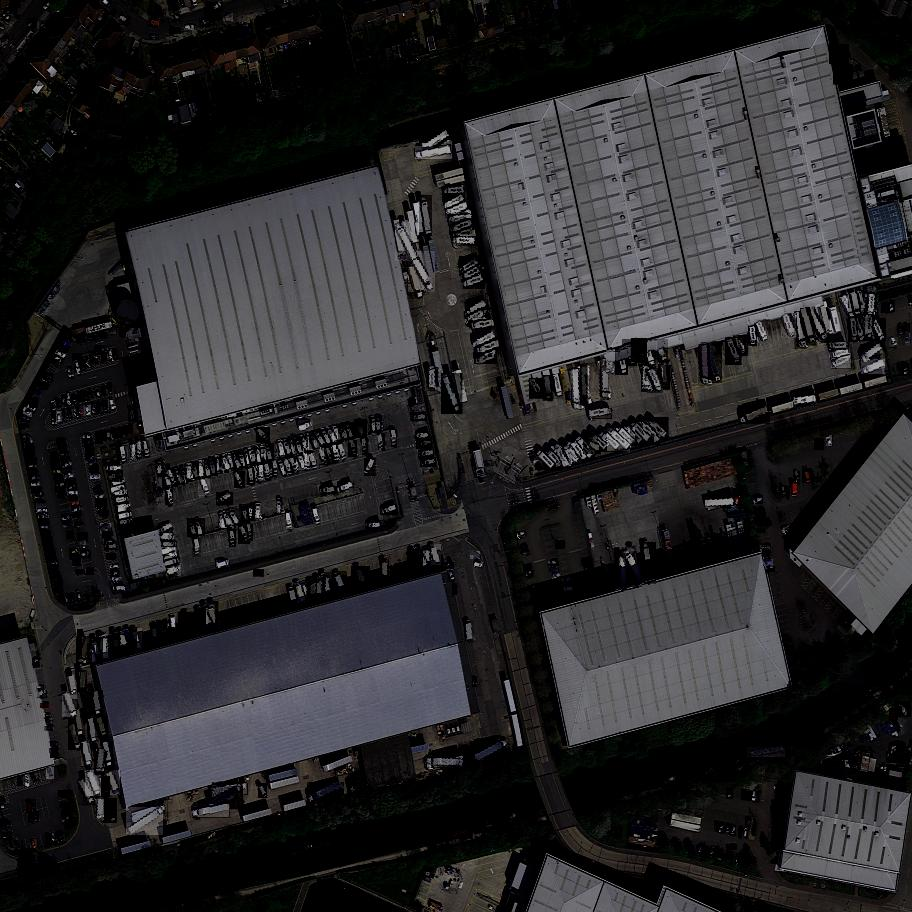large-vehicle: (408, 251, 436, 292), (126, 808, 164, 837), (622, 548, 649, 587), (395, 221, 420, 261), (806, 307, 833, 344), (441, 373, 464, 415), (701, 343, 723, 384), (474, 739, 510, 763), (208, 787, 244, 811), (308, 783, 344, 806), (422, 131, 452, 156), (801, 308, 819, 346), (641, 542, 657, 584), (131, 804, 168, 822), (738, 405, 771, 424), (407, 264, 424, 300), (606, 428, 631, 452), (645, 417, 671, 440), (639, 418, 661, 445), (627, 422, 654, 444), (418, 195, 432, 236), (574, 435, 596, 461), (415, 146, 453, 161), (565, 442, 591, 463), (192, 805, 230, 819), (861, 344, 885, 366), (534, 448, 556, 471), (597, 431, 620, 453), (622, 425, 645, 447), (472, 331, 497, 351), (78, 779, 97, 805), (178, 612, 197, 638), (413, 547, 432, 573), (351, 566, 370, 592), (553, 442, 571, 469), (726, 338, 744, 365), (558, 444, 581, 465), (460, 256, 483, 277), (76, 637, 93, 665), (839, 294, 858, 319), (198, 604, 217, 629), (212, 783, 248, 796), (61, 692, 78, 719), (867, 319, 886, 343), (795, 312, 807, 350), (650, 339, 669, 363), (698, 345, 709, 386), (446, 202, 471, 220), (781, 313, 798, 339), (449, 218, 475, 235), (85, 770, 102, 796), (407, 549, 424, 575), (444, 193, 467, 212), (546, 447, 564, 471), (754, 320, 772, 344), (475, 341, 502, 357), (105, 771, 123, 795), (631, 339, 649, 363), (586, 434, 611, 451), (612, 429, 637, 446), (648, 368, 665, 393), (581, 434, 602, 454), (622, 339, 638, 365), (642, 342, 658, 368), (90, 638, 106, 664), (467, 300, 490, 318), (465, 309, 488, 327), (331, 571, 348, 595), (69, 724, 84, 751), (861, 359, 886, 375), (705, 497, 741, 508), (462, 265, 484, 283), (848, 291, 863, 317), (425, 758, 464, 768), (474, 351, 498, 367), (347, 776, 368, 794), (615, 348, 629, 375), (319, 573, 334, 598), (463, 274, 486, 290), (104, 798, 118, 824), (101, 741, 114, 769), (854, 317, 869, 341), (600, 359, 609, 399), (116, 629, 131, 653), (529, 378, 546, 399), (733, 336, 750, 357), (90, 690, 103, 717), (856, 291, 870, 316), (470, 318, 496, 331), (81, 741, 94, 767), (572, 369, 580, 411), (95, 717, 110, 739), (427, 545, 442, 567), (124, 628, 138, 651), (293, 581, 307, 604), (832, 354, 852, 370), (287, 585, 300, 609), (74, 708, 85, 736), (543, 376, 555, 401), (618, 552, 626, 589), (551, 375, 563, 399), (98, 777, 111, 799), (230, 451, 245, 470), (132, 628, 144, 651), (94, 750, 105, 775), (580, 365, 587, 404), (895, 702, 912, 718), (297, 435, 312, 453), (314, 429, 329, 447), (641, 365, 651, 392), (216, 492, 234, 507), (227, 509, 242, 527), (355, 419, 369, 438), (165, 468, 179, 487), (451, 231, 477, 241), (589, 409, 612, 420), (337, 480, 355, 494), (332, 425, 346, 443), (326, 426, 340, 444), (830, 349, 851, 361), (172, 467, 186, 485), (67, 674, 79, 695), (793, 396, 818, 406), (448, 214, 473, 224), (88, 719, 98, 744), (240, 505, 253, 524), (309, 431, 322, 450), (156, 621, 169, 640), (187, 519, 200, 538), (238, 525, 251, 544), (849, 318, 859, 342), (660, 366, 670, 390), (277, 459, 290, 477), (364, 458, 377, 476), (324, 447, 337, 465), (280, 439, 293, 457), (219, 455, 232, 473), (321, 429, 334, 447), (210, 601, 219, 627), (316, 577, 325, 603), (867, 294, 877, 317), (77, 670, 87, 693), (199, 479, 211, 498), (103, 635, 115, 654), (607, 350, 616, 375), (99, 634, 108, 659), (251, 466, 264, 483), (319, 448, 332, 465), (234, 471, 247, 488), (416, 437, 433, 450), (344, 423, 357, 440), (111, 483, 128, 496), (118, 524, 135, 537), (208, 457, 219, 477), (380, 504, 398, 516), (163, 551, 181, 563), (256, 428, 270, 443), (337, 443, 348, 462), (243, 448, 254, 467), (237, 450, 248, 469), (293, 436, 304, 455), (194, 518, 205, 537), (158, 524, 174, 537), (197, 609, 206, 632), (116, 503, 133, 515), (749, 327, 759, 347), (308, 452, 319, 470), (339, 423, 350, 441), (190, 462, 201, 480), (95, 798, 104, 820), (223, 510, 234, 528), (109, 470, 125, 482), (167, 564, 183, 576), (266, 443, 276, 462), (202, 459, 212, 478), (312, 507, 322, 526), (465, 621, 474, 642), (284, 459, 295, 476), (296, 454, 307, 471), (420, 457, 437, 468), (427, 367, 435, 390), (226, 453, 236, 471), (141, 440, 151, 458), (118, 446, 128, 464), (162, 471, 172, 489), (192, 538, 201, 558), (86, 646, 96, 664), (298, 420, 314, 431), (443, 187, 465, 195), (110, 477, 126, 488), (162, 546, 178, 557), (117, 510, 133, 521), (290, 457, 300, 474), (112, 630, 119, 654), (84, 692, 91, 716), (247, 468, 256, 486), (262, 444, 271, 462), (250, 447, 259, 465), (453, 239, 476, 246), (349, 441, 359, 457), (276, 441, 285, 458), (828, 342, 847, 350), (180, 465, 188, 484), (165, 558, 180, 568), (865, 317, 872, 338), (310, 580, 317, 601), (378, 434, 387, 450), (256, 446, 264, 464), (370, 416, 378, 434), (165, 490, 174, 506), (382, 560, 388, 583), (186, 464, 194, 481), (271, 462, 279, 478), (320, 487, 336, 495), (419, 450, 435, 458), (118, 519, 134, 527), (219, 512, 226, 530), (160, 534, 175, 542), (333, 445, 340, 462), (255, 503, 262, 520), (288, 437, 295, 454), (198, 460, 205, 477), (229, 530, 236, 547), (151, 623, 157, 642), (304, 453, 311, 469), (391, 430, 398, 446), (131, 445, 138, 461), (246, 525, 253, 541), (216, 560, 230, 568), (277, 497, 283, 515), (302, 582, 308, 600), (411, 414, 426, 421), (116, 496, 129, 504), (286, 513, 292, 529), (307, 434, 313, 449), (157, 460, 163, 475), (107, 466, 122, 472), (170, 614, 176, 629), (162, 541, 177, 547), (366, 523, 381, 529), (266, 463, 271, 480), (249, 504, 254, 521), (376, 415, 381, 432), (215, 456, 220, 473), (137, 442, 142, 459), (425, 546, 430, 563), (114, 492, 128, 498), (260, 466, 265, 481), (363, 438, 367, 455), (415, 434, 429, 438)
ship: (697, 753, 737, 783), (789, 722, 824, 747), (579, 789, 616, 809), (863, 676, 901, 695), (747, 747, 785, 758), (450, 825, 474, 840), (474, 820, 495, 834), (659, 775, 681, 788), (290, 846, 323, 851), (506, 814, 523, 821)
small-vehicle: (802, 468, 812, 483), (258, 783, 268, 798), (68, 127, 80, 138), (102, 400, 112, 413), (82, 438, 95, 448), (707, 847, 717, 860), (447, 570, 457, 583), (199, 19, 213, 28), (23, 407, 34, 418), (86, 451, 97, 462), (27, 18, 38, 29), (70, 136, 81, 147), (889, 337, 899, 349), (881, 302, 891, 314), (814, 438, 824, 450), (55, 350, 67, 360), (135, 372, 147, 382), (36, 501, 48, 511), (119, 16, 131, 26), (889, 708, 899, 720), (100, 524, 112, 534), (29, 397, 39, 408), (1, 11, 12, 21), (79, 140, 90, 150), (37, 690, 48, 700), (555, 541, 566, 551), (74, 521, 85, 531), (77, 532, 88, 542), (99, 510, 110, 520), (9, 0, 18, 12), (886, 300, 895, 312), (94, 346, 106, 355), (26, 404, 38, 413), (111, 428, 120, 440), (0, 820, 12, 829), (696, 845, 705, 857), (470, 551, 482, 560), (130, 48, 139, 60), (253, 570, 265, 579), (97, 402, 105, 415), (109, 398, 117, 411), (112, 348, 120, 361), (702, 846, 710, 859), (0, 35, 10, 45), (214, 2, 224, 12), (111, 570, 121, 580), (54, 475, 65, 484), (53, 355, 64, 364), (41, 376, 50, 387), (71, 394, 80, 405), (62, 461, 73, 470), (23, 440, 34, 449), (752, 495, 763, 504), (31, 774, 40, 785), (30, 839, 39, 850), (14, 841, 23, 852), (43, 718, 54, 727), (96, 499, 107, 508), (39, 519, 50, 528), (751, 496, 763, 504), (107, 349, 115, 361), (95, 432, 103, 444), (84, 405, 92, 417), (77, 391, 85, 403), (46, 833, 54, 845), (47, 768, 55, 780), (119, 46, 127, 58), (581, 559, 593, 567), (129, 410, 136, 423), (60, 829, 67, 842), (848, 455, 857, 465), (38, 382, 48, 391), (67, 483, 77, 492), (2, 832, 12, 841), (894, 707, 903, 717), (15, 59, 24, 69), (11, 63, 21, 72), (223, 13, 233, 22), (44, 541, 54, 550), (79, 539, 89, 548), (54, 580, 64, 589), (47, 552, 57, 561), (898, 324, 906, 335), (89, 466, 100, 474), (97, 332, 108, 340), (72, 354, 83, 362), (51, 463, 62, 471), (745, 816, 753, 827), (718, 823, 726, 834), (730, 825, 738, 836), (61, 810, 72, 818), (62, 816, 73, 824), (443, 563, 454, 571), (772, 799, 783, 807), (148, 20, 159, 28), (81, 550, 92, 558), (48, 559, 59, 567), (51, 575, 62, 583), (827, 435, 834, 447), (791, 483, 797, 497), (83, 391, 90, 403), (727, 787, 734, 799), (164, 619, 171, 631), (62, 341, 71, 350), (99, 505, 108, 514), (44, 373, 54, 381), (99, 431, 107, 441), (119, 327, 127, 337), (59, 345, 69, 353), (57, 438, 67, 446), (50, 452, 60, 460), (35, 497, 45, 505), (27, 457, 37, 465), (775, 785, 785, 793), (59, 791, 69, 799), (39, 25, 49, 33), (771, 805, 781, 813), (50, 752, 60, 760), (219, 29, 227, 39), (48, 741, 58, 749), (62, 514, 72, 522), (523, 564, 533, 572), (525, 571, 535, 579), (66, 532, 76, 540), (72, 559, 82, 567), (107, 553, 117, 561), (105, 538, 115, 546), (26, 800, 32, 813), (95, 387, 102, 398), (57, 444, 68, 451), (55, 481, 66, 488), (714, 849, 721, 860), (60, 804, 71, 811), (741, 790, 748, 801), (75, 570, 86, 577), (56, 411, 62, 423), (54, 398, 62, 407), (67, 410, 73, 422), (68, 366, 74, 378), (50, 458, 59, 466), (4, 9, 13, 17), (33, 811, 39, 823), (25, 775, 31, 787), (769, 826, 778, 834), (51, 570, 60, 578), (903, 323, 910, 333), (793, 471, 800, 481), (780, 486, 787, 496), (34, 391, 44, 398), (88, 460, 98, 467), (61, 456, 71, 463), (29, 469, 39, 476), (262, 15, 269, 25), (584, 565, 594, 572), (72, 506, 82, 513), (69, 549, 79, 556), (64, 594, 71, 604), (549, 566, 559, 573), (49, 564, 59, 571), (81, 359, 87, 370), (75, 362, 81, 373), (118, 427, 124, 438), (747, 791, 753, 802), (76, 590, 82, 601), (65, 335, 73, 343), (57, 492, 66, 499), (765, 560, 774, 567), (98, 506, 107, 513), (552, 572, 561, 579), (64, 473, 74, 479), (102, 352, 107, 364), (50, 402, 56, 412), (91, 352, 96, 364), (68, 491, 78, 497), (902, 363, 907, 375), (36, 503, 46, 509), (110, 329, 118, 336), (86, 569, 94, 576), (738, 827, 743, 838), (154, 3, 159, 14), (113, 586, 124, 591), (96, 493, 105, 499), (741, 855, 747, 864), (898, 23, 907, 29), (888, 18, 897, 24), (50, 748, 59, 754), (37, 509, 46, 515), (35, 498, 44, 504), (46, 548, 55, 554), (102, 531, 111, 537), (62, 394, 67, 404), (82, 435, 92, 440), (96, 500, 106, 505), (33, 492, 43, 497), (727, 845, 737, 850), (64, 822, 74, 827), (760, 545, 770, 550), (85, 446, 93, 452), (71, 502, 79, 508), (715, 822, 721, 830), (762, 551, 770, 557), (105, 545, 117, 549), (91, 474, 100, 479), (26, 452, 35, 457), (28, 464, 37, 469), (32, 664, 41, 669), (185, 25, 194, 30), (474, 562, 483, 567), (88, 388, 92, 399), (92, 403, 96, 414), (170, 30, 181, 34), (20, 417, 30, 421), (107, 429, 111, 439), (32, 481, 40, 486), (34, 487, 42, 492), (31, 476, 39, 481), (25, 447, 35, 451), (57, 831, 61, 841), (473, 677, 477, 687), (257, 17, 261, 27), (40, 703, 48, 708), (71, 501, 79, 506), (71, 593, 75, 603), (42, 531, 50, 536), (562, 578, 572, 582), (517, 532, 525, 537), (71, 554, 79, 559), (54, 588, 62, 593), (72, 513, 80, 518), (906, 334, 910, 343), (786, 487, 790, 496), (87, 337, 96, 341), (75, 407, 79, 416), (129, 424, 133, 433), (52, 413, 55, 425), (107, 383, 111, 392), (123, 426, 127, 435), (73, 508, 82, 512), (93, 488, 102, 492), (719, 849, 723, 858), (31, 799, 35, 808), (29, 813, 33, 822), (228, 27, 232, 36), (549, 561, 558, 565), (61, 451, 68, 456), (56, 487, 63, 492), (69, 496, 76, 501), (771, 813, 778, 818), (33, 658, 40, 663), (753, 791, 756, 802), (453, 584, 456, 595), (67, 479, 75, 483), (86, 357, 90, 365), (101, 385, 105, 393), (80, 406, 84, 414), (76, 338, 84, 342), (726, 825, 730, 833), (783, 638, 791, 642), (399, 62, 407, 66), (757, 529, 765, 533), (39, 516, 47, 520), (745, 828, 748, 838), (54, 470, 61, 474), (767, 567, 774, 571), (409, 57, 416, 61), (173, 16, 180, 20), (36, 686, 43, 690), (45, 726, 52, 730), (41, 526, 48, 530), (63, 521, 70, 525), (521, 551, 528, 555), (69, 497, 76, 501), (62, 410, 65, 419), (68, 394, 71, 403), (18, 776, 21, 785), (43, 538, 52, 541), (564, 588, 573, 591), (736, 857, 739, 865), (52, 834, 55, 842), (150, 34, 158, 37), (110, 566, 118, 569), (113, 578, 121, 581), (521, 545, 527, 549), (44, 714, 51, 717), (23, 436, 29, 439), (21, 426, 27, 428)
storage-tank: (112, 298, 140, 327), (830, 44, 851, 66), (833, 64, 854, 85)
